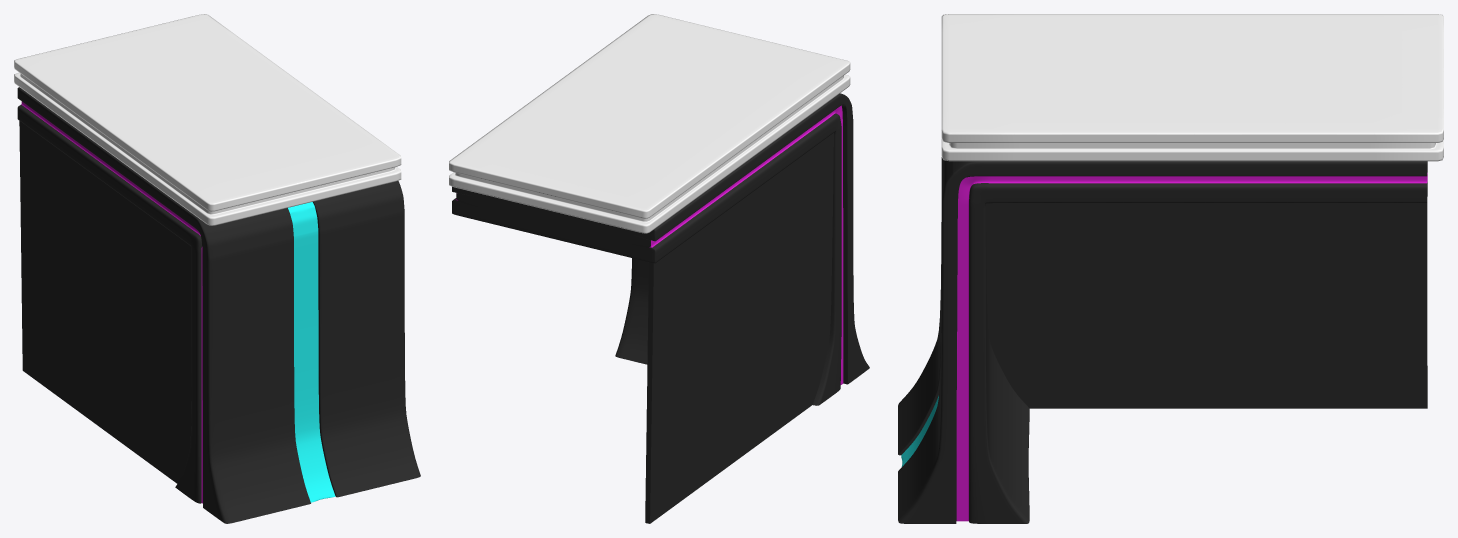
File: high poly bench 3.fbx
3 renders of one model, left to right at view 1: azimuth 30°, elevation 25°; view 2: azimuth 150°, elevation 25°; view 3: azimuth 270°, elevation 25°, orthographic. The views are drawn at different scales.
Visible parts, largest first — view 1: Box018; view 2: Box018; view 3: Box018.
Boxes of the visible parts, x1,y1,x2,y2 form: Box018: [14, 14, 420, 523]; Box018: [449, 14, 869, 523]; Box018: [898, 14, 1443, 523].
Size of the model in its own units: 19.67 by 29.35 by 37.26.
